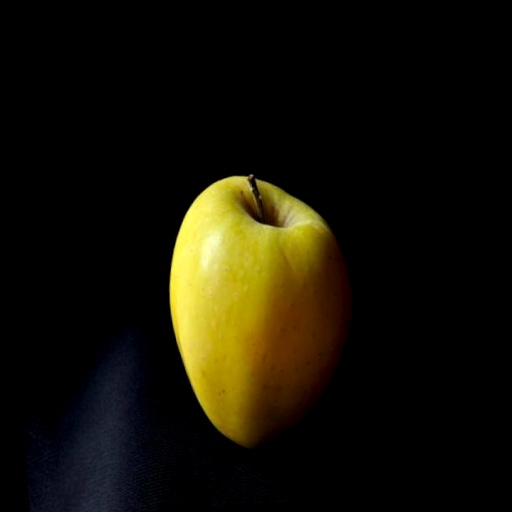fruit: (170, 177, 353, 448)
